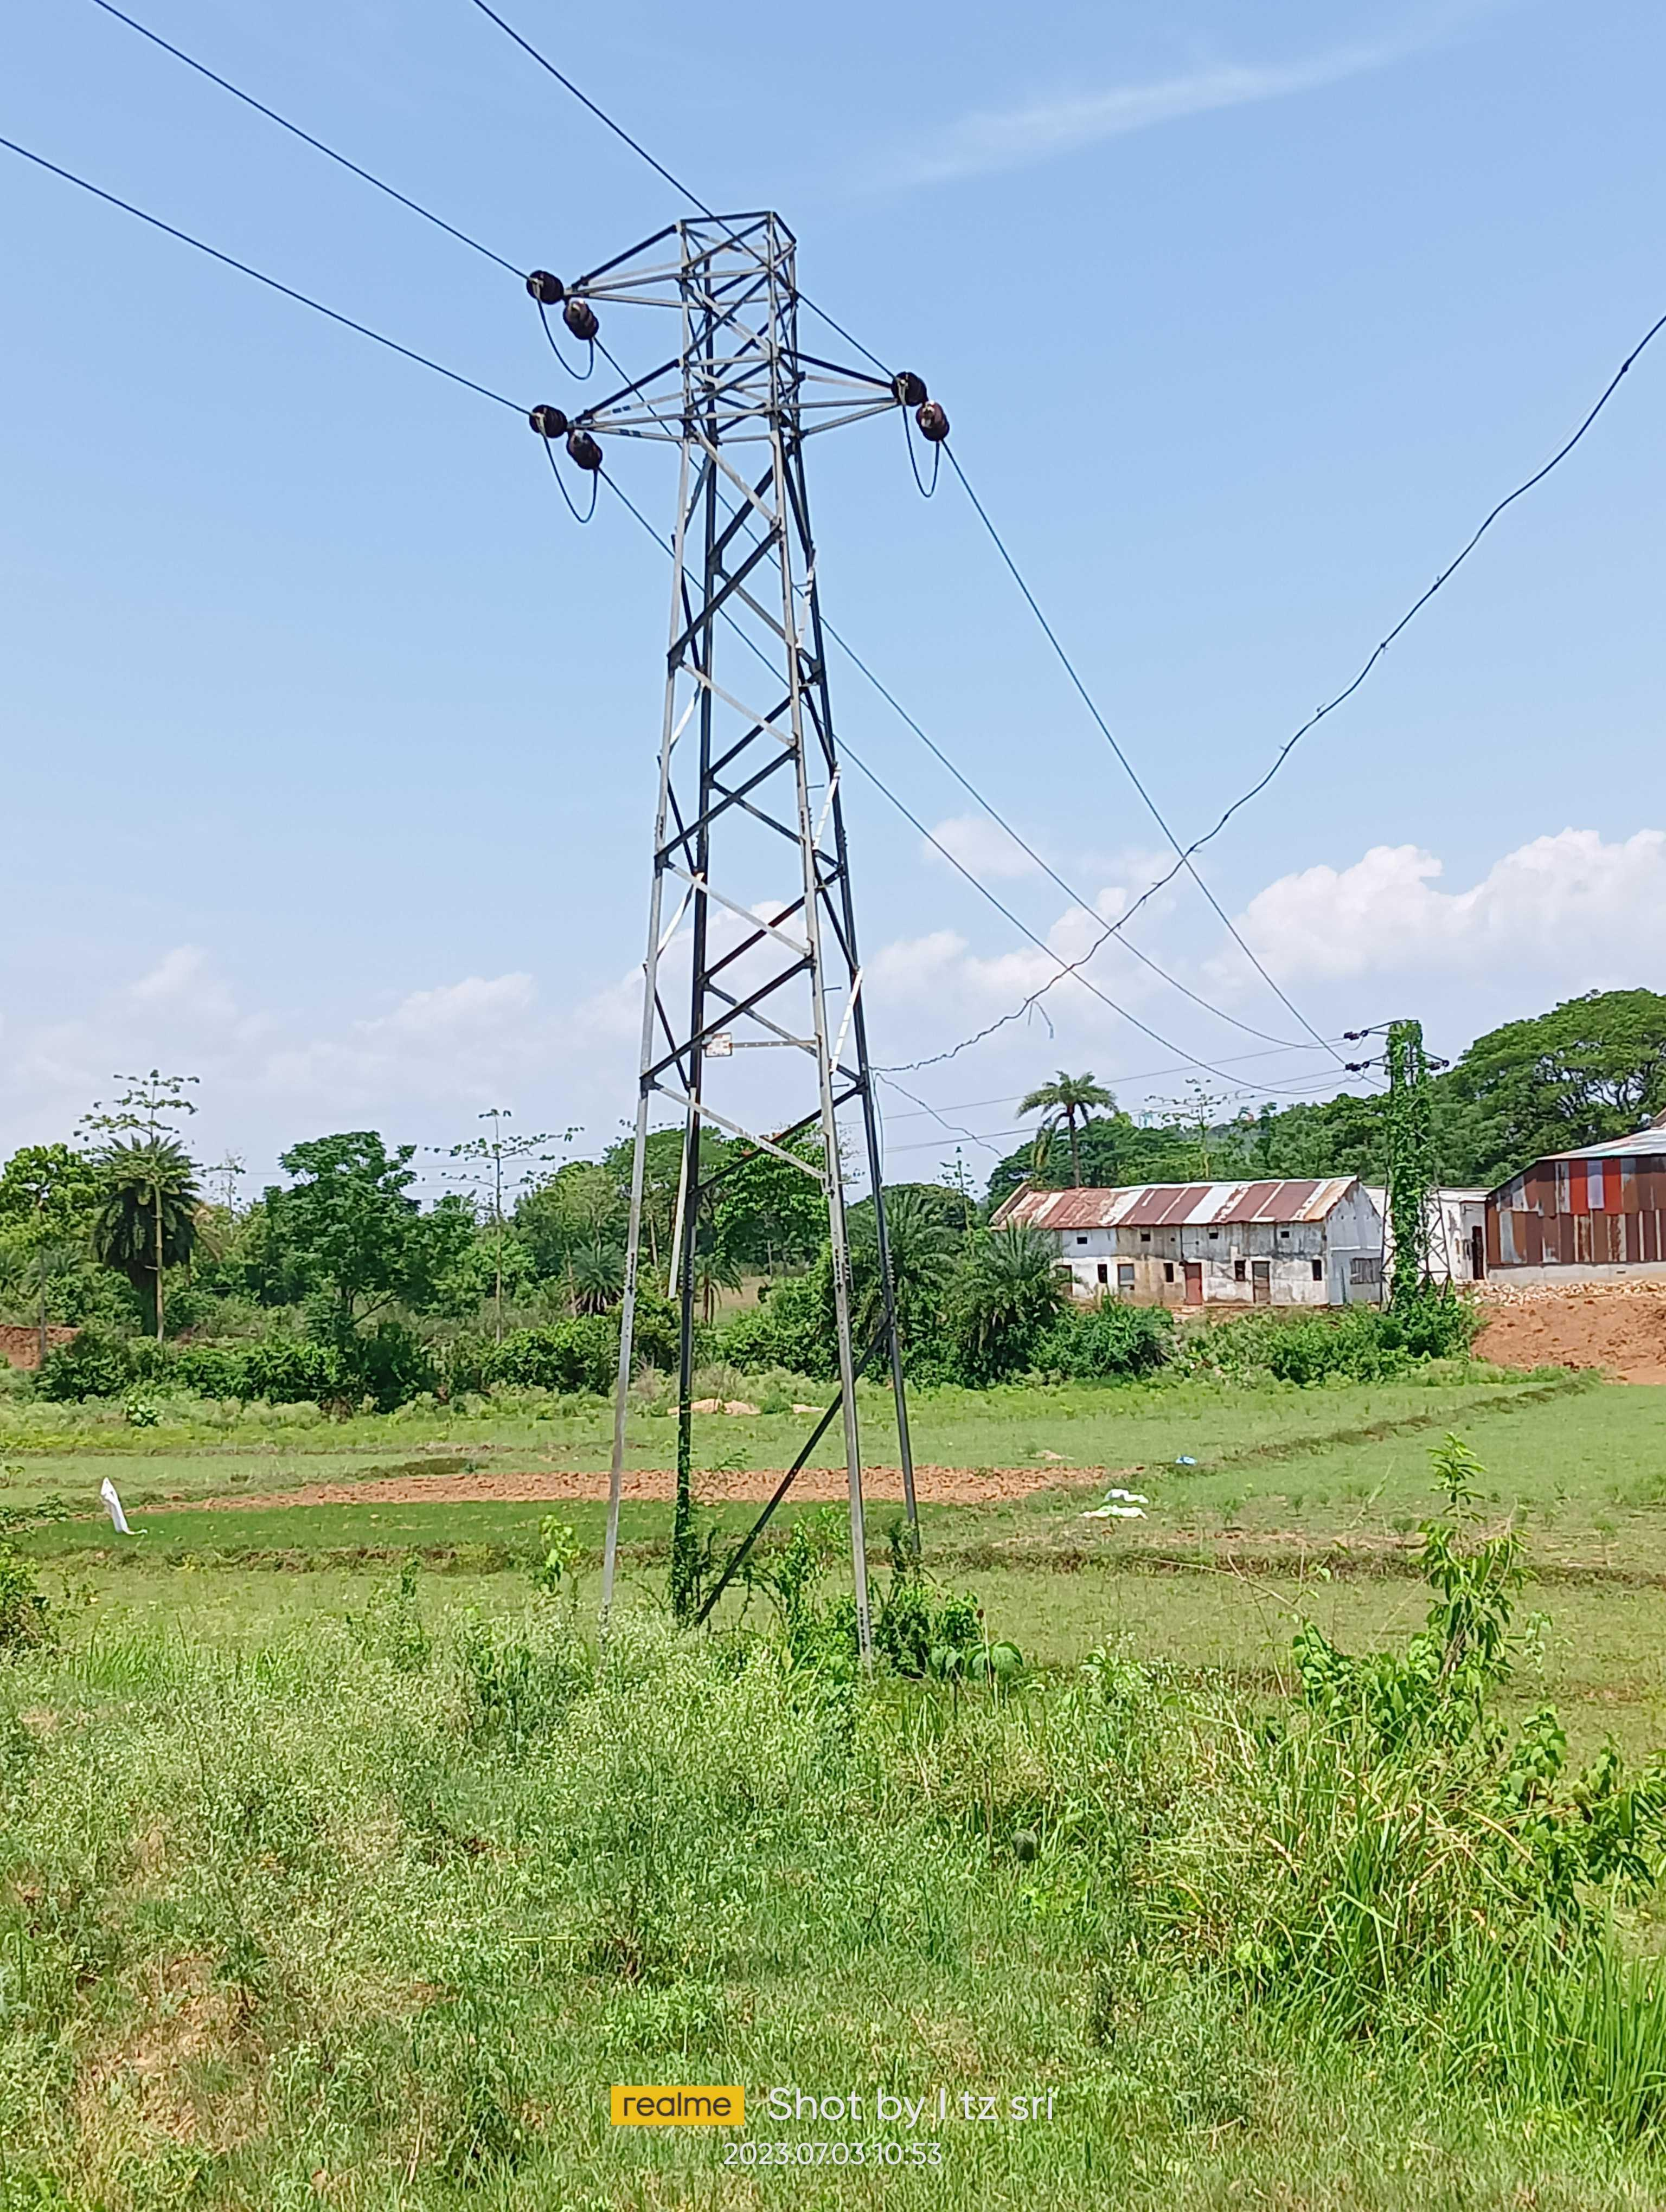GSM Antenna: (521, 194, 936, 1506)
